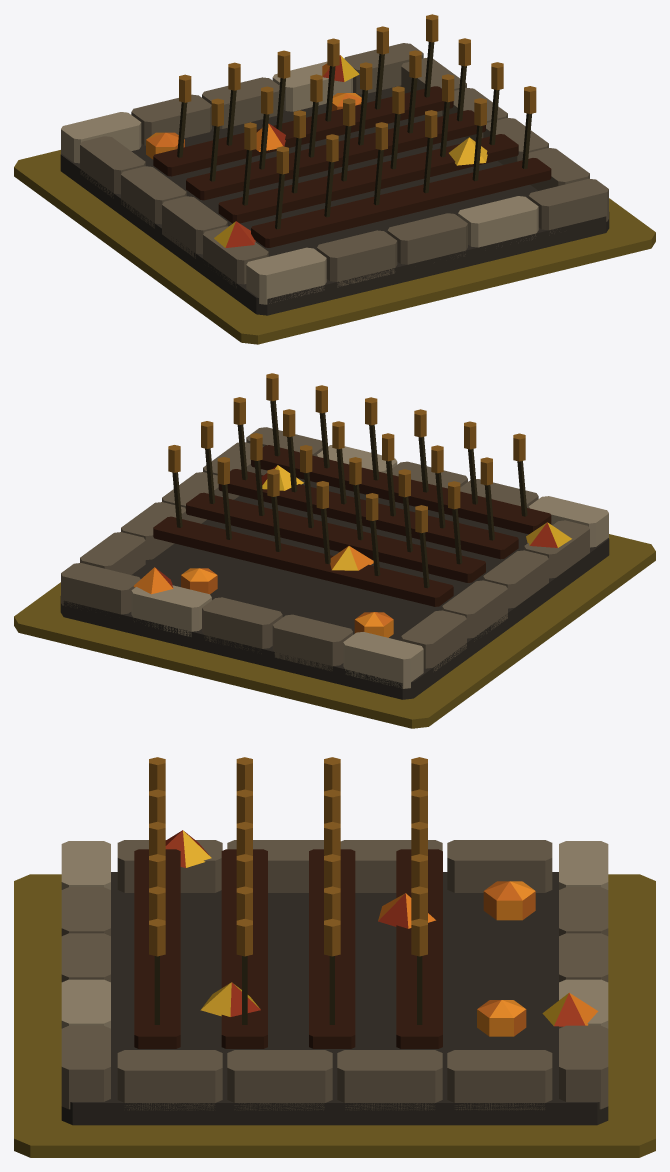
Rendered from farm_t1.glb.
3 renders of one model, top to bottom at view 1: azimuth 30°, elevation 25°; view 2: azimuth 150°, elevation 25°; view 3: azimuth 270°, elevation 25°, orthographic. The views are drawn at different scales.
Parts seen in each view (by area): view 1: MMR | farm | T01 Architecture.001, MMR | farm | Tier 01 Ground.001, MMR | farm | T01 Autumn Dressing.001; view 2: MMR | farm | T01 Architecture.001, MMR | farm | Tier 01 Ground.001, MMR | farm | T01 Autumn Dressing.001; view 3: MMR | farm | T01 Architecture.001, MMR | farm | Tier 01 Ground.001, MMR | farm | T01 Autumn Dressing.001.
Part boxes in pixels (<box>): MMR | farm | T01 Architecture.001: <box>60,14,609,315</box>; MMR | farm | Tier 01 Ground.001: <box>14,150,655,344</box>; MMR | farm | T01 Autumn Dressing.001: <box>146,55,487,247</box>; MMR | farm | T01 Architecture.001: <box>60,373,609,699</box>; MMR | farm | Tier 01 Ground.001: <box>14,534,655,728</box>; MMR | farm | T01 Autumn Dressing.001: <box>133,465,571,637</box>; MMR | farm | T01 Architecture.001: <box>61,757,608,1125</box>; MMR | farm | Tier 01 Ground.001: <box>14,874,655,1157</box>; MMR | farm | T01 Autumn Dressing.001: <box>165,830,598,1036</box>.
Bounding box in the file's own units: 2.35 × 0.742 × 2.35.
1 material, 1 textured.
